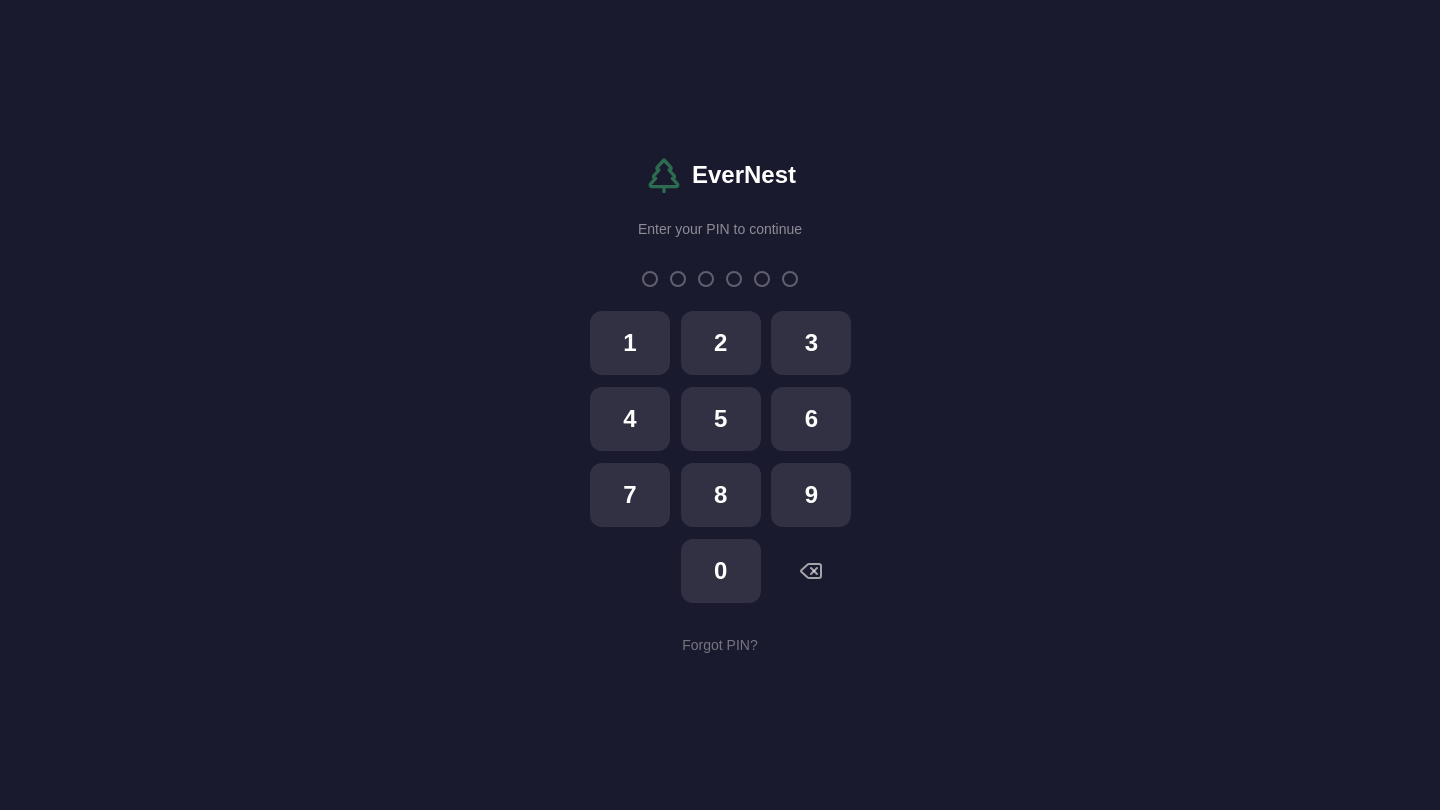
accounts with no password › a forgotten PIN › stays locked if the server refuses
This screenshot has width=1440, height=810.
Click the button "Forgot PIN?": click(720, 645) [682,635,758,655]
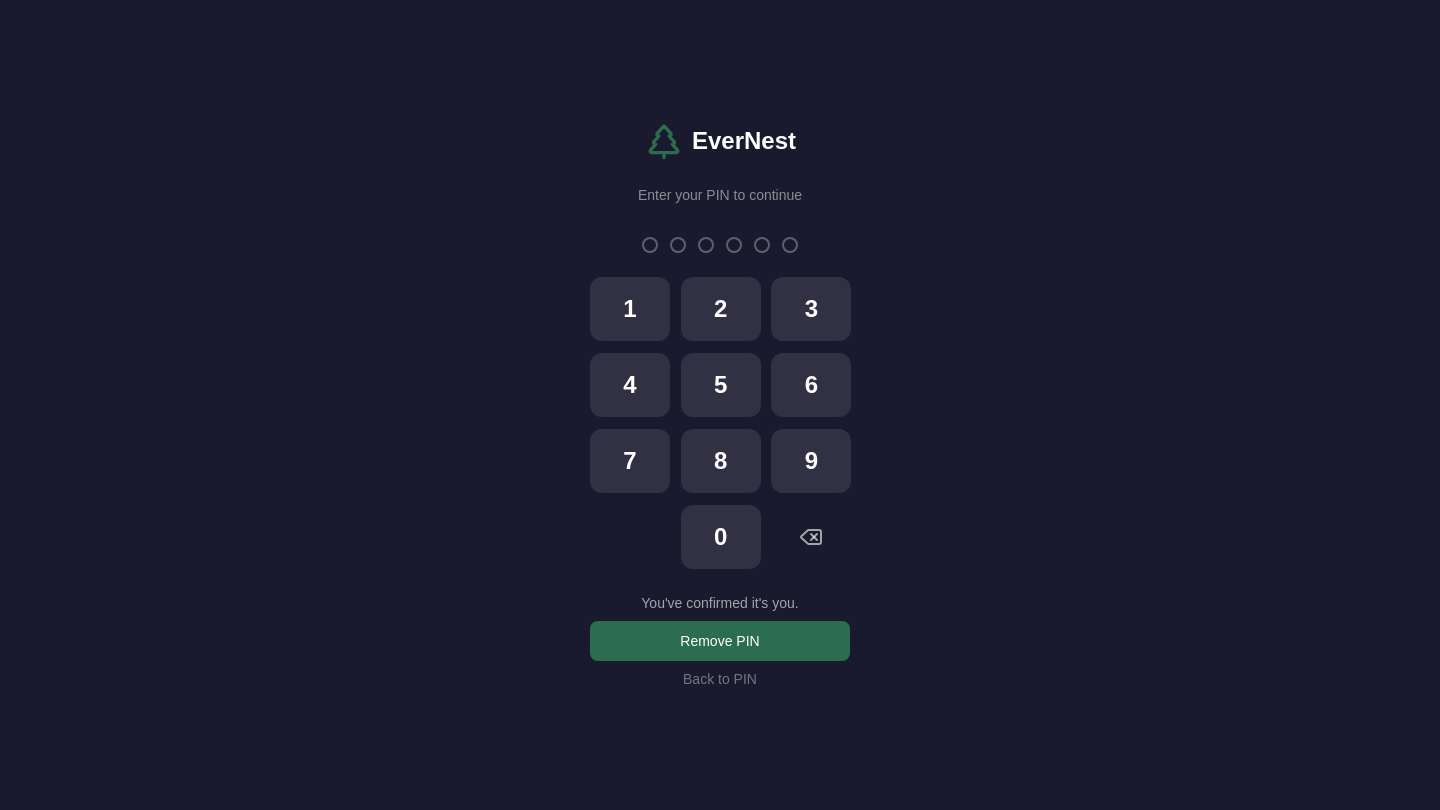
Click the button "Remove PIN": click(720, 641) [590,621,850,661]
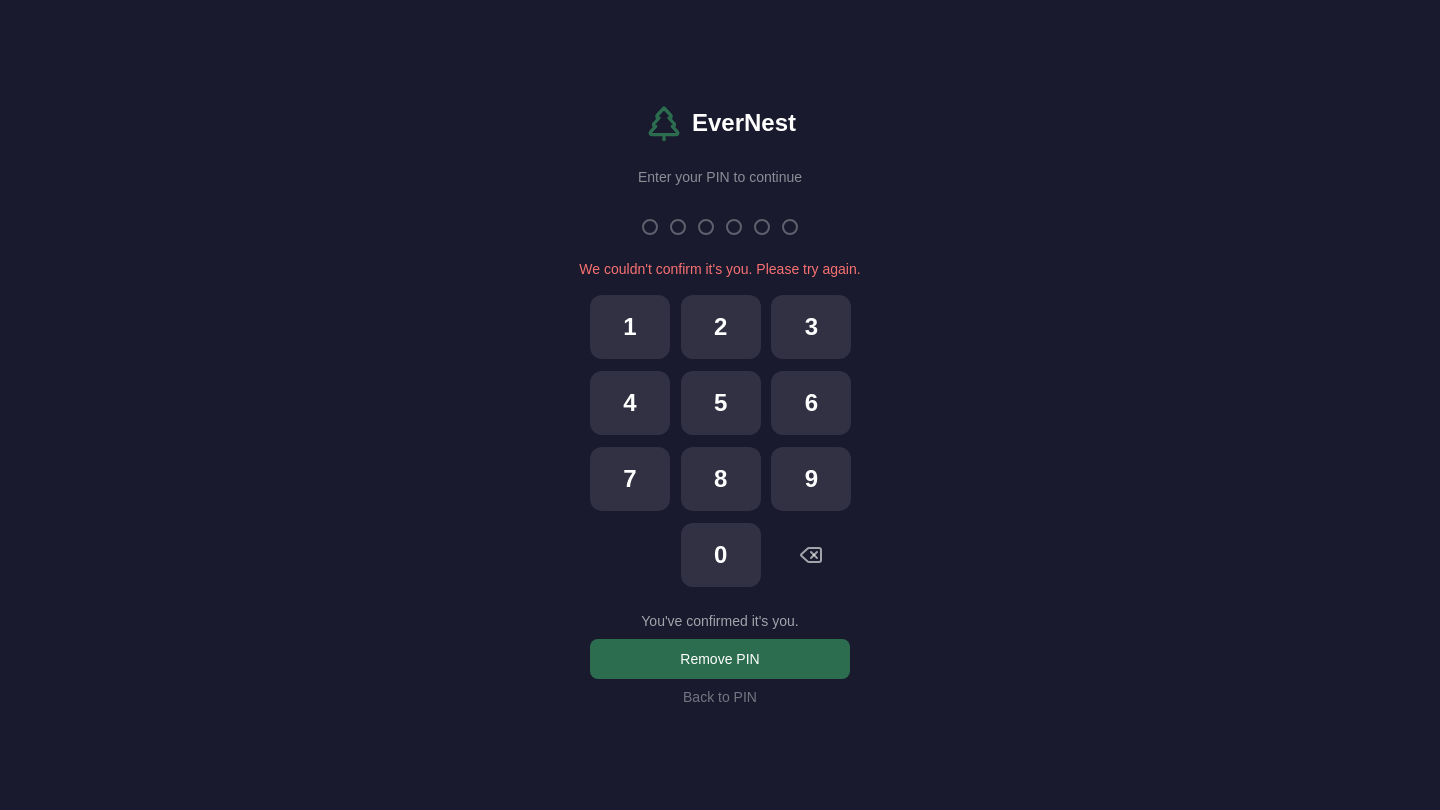
expect the text "We couldn't confirm it's you. Please try again." is shown: met, box [579,261,861,277]
